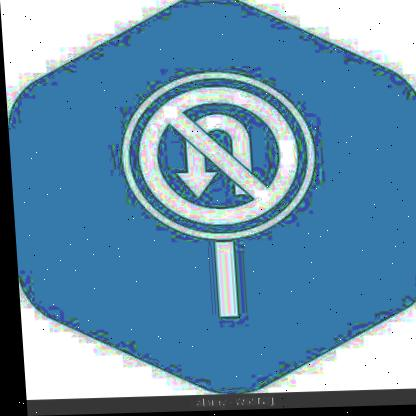No U-turn: (110, 68, 325, 251)
